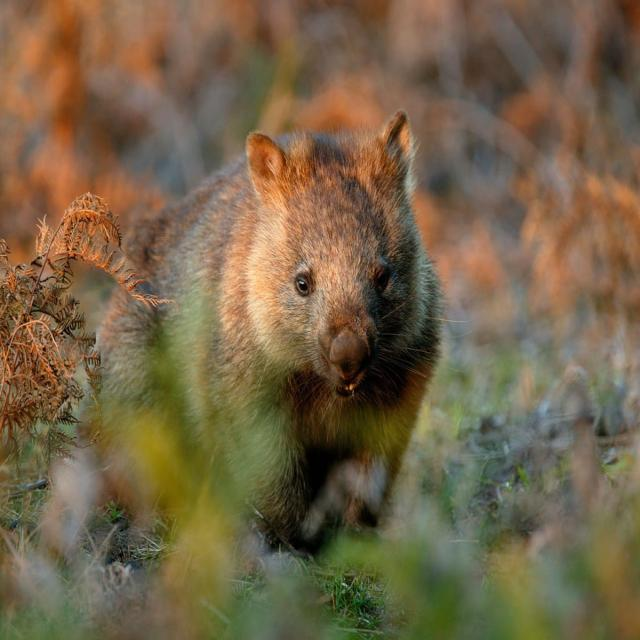Wombat: (134, 111, 453, 553)
